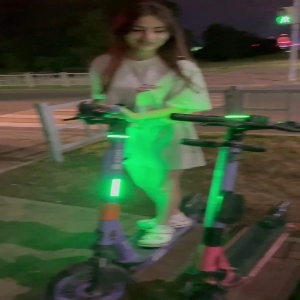human on a scooter: (46, 2, 214, 300)
